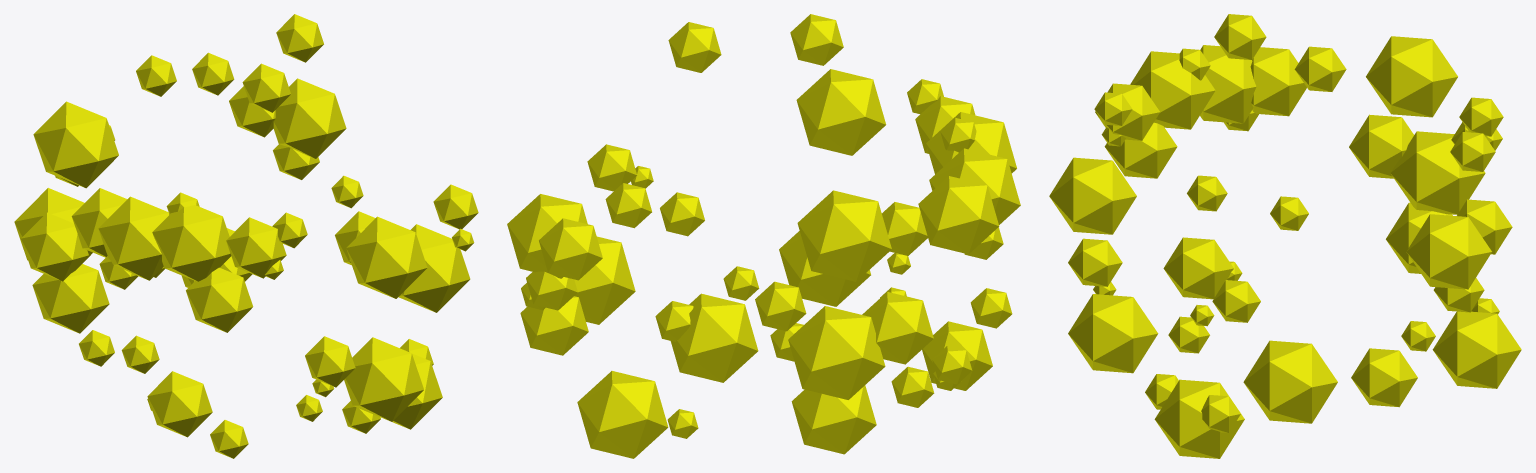
The model's file is particle_fx.fbx.
The picture shows the model from 3 angles, left to right: view 1: azimuth 30°, elevation 25°; view 2: azimuth 150°, elevation 25°; view 3: azimuth 270°, elevation 25°; orthographic projection. The views are drawn at different scales.
Visible parts, largest first — view 1: geo1; view 2: geo1; view 3: geo1.
Boxes of the visible parts, bbox=[...] form: geo1: bbox=[14, 14, 478, 458]; geo1: bbox=[507, 14, 1020, 458]; geo1: bbox=[1049, 14, 1521, 458].
Bounding box in the file's own units: 2.09 × 1.91 × 2.12.
